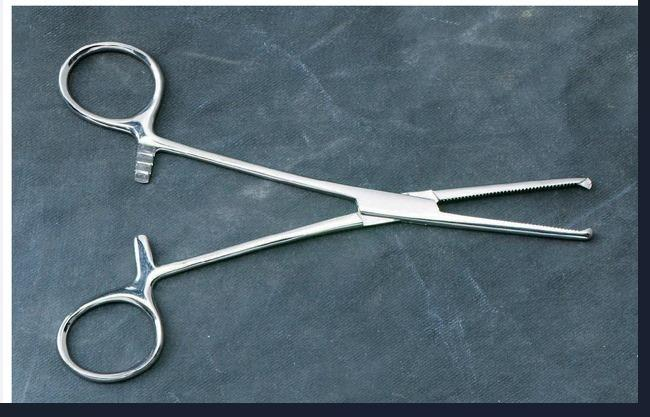Kocher Forceps: (51, 37, 602, 386)
